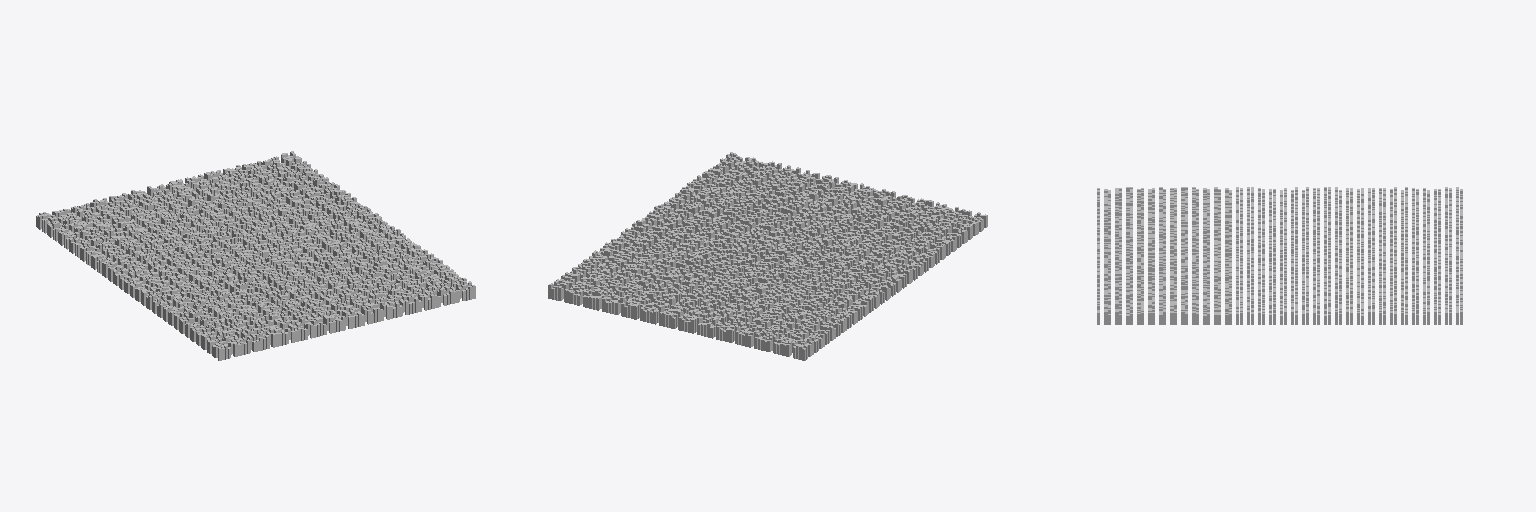
The model's file is city.obj.
3 views of the same model, side by side, from view 1: azimuth 30°, elevation 25°; view 2: azimuth 150°, elevation 25°; view 3: azimuth 270°, elevation 25° (orthographic).
Visible parts, largest first — view 1: city; view 2: city; view 3: city.
Part boxes in pixels (x1,y1,x2,y2): city: (36, 151, 475, 360); city: (548, 152, 987, 360); city: (1097, 187, 1462, 324).
Size of the model in its own units: 1375 by 70 by 1698.